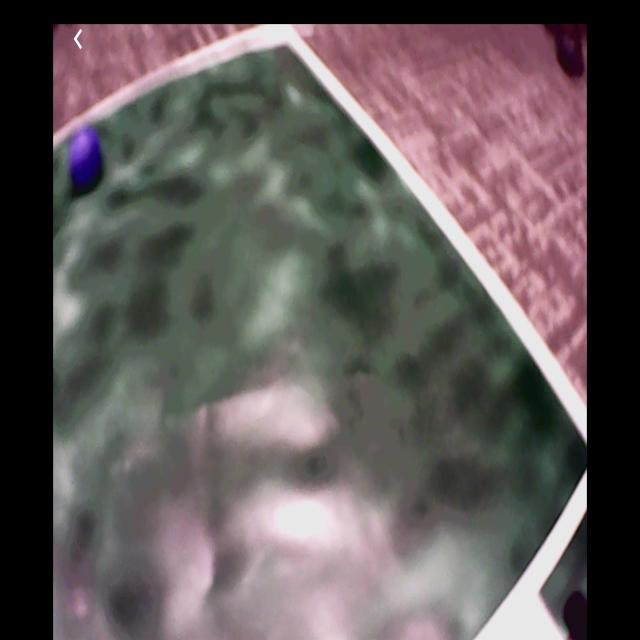ball: (70, 131, 101, 190)
